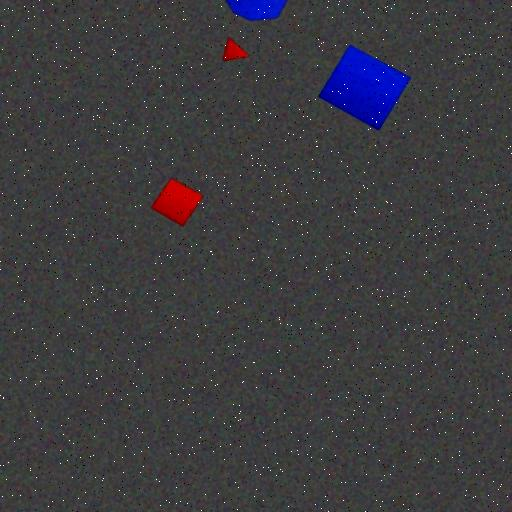BLUE_SQUARE: (318, 44, 412, 131)
RED_SQUARE: (150, 178, 204, 227)
